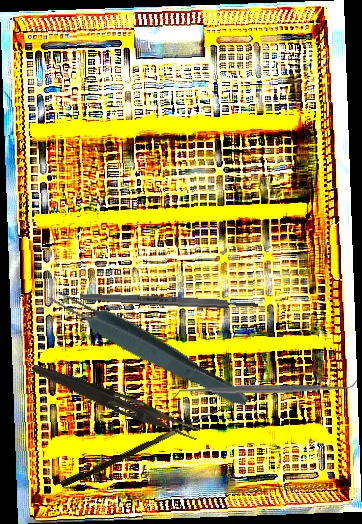Dressing Forceps: (29, 361, 203, 442)
Hook Surgical: (59, 397, 232, 491)
Scalpel Handle: (79, 291, 259, 311)
Spatula Surgical: (170, 377, 359, 402)
Tissue Forceps: (42, 279, 255, 415)
